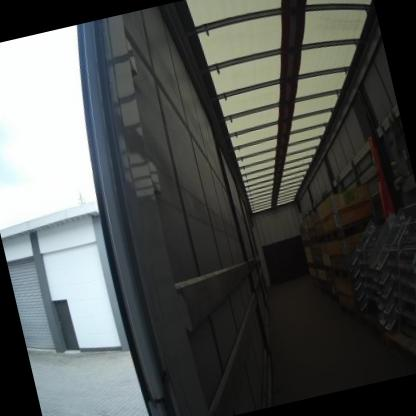pallet: (324, 213, 389, 351), (385, 326, 416, 377), (340, 299, 360, 324), (332, 262, 352, 284), (309, 234, 328, 246), (324, 285, 336, 301), (314, 259, 326, 273), (312, 280, 323, 294), (324, 263, 334, 274), (302, 240, 311, 247)
